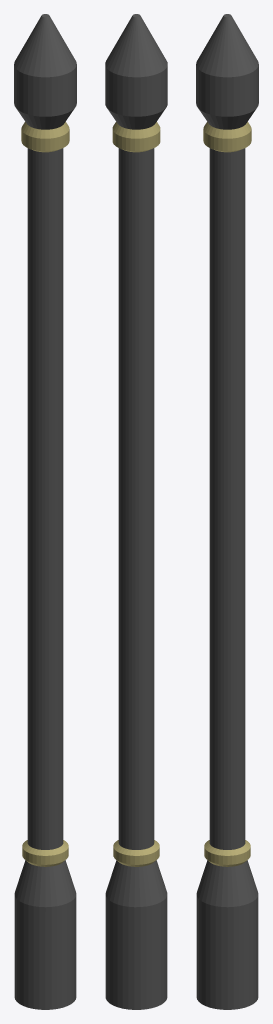
Rendered from street-electrification-pole.dae.
3 renders of one model, left to right at view 1: azimuth 90°, elevation 25°; view 2: azimuth 210°, elevation 25°; view 3: azimuth 270°, elevation 25°, orthographic.
Visible parts, largest first — view 1: Cylinder; view 2: Cylinder; view 3: Cylinder.
Boxes of the visible parts, x1=… form: Cylinder: x1=14, y1=14, x2=76, y2=1009; Cylinder: x1=105, y1=14, x2=167, y2=1009; Cylinder: x1=196, y1=14, x2=258, y2=1009.
Size of the model in its own units: 0.2623 by 0.2623 by 4.52.
